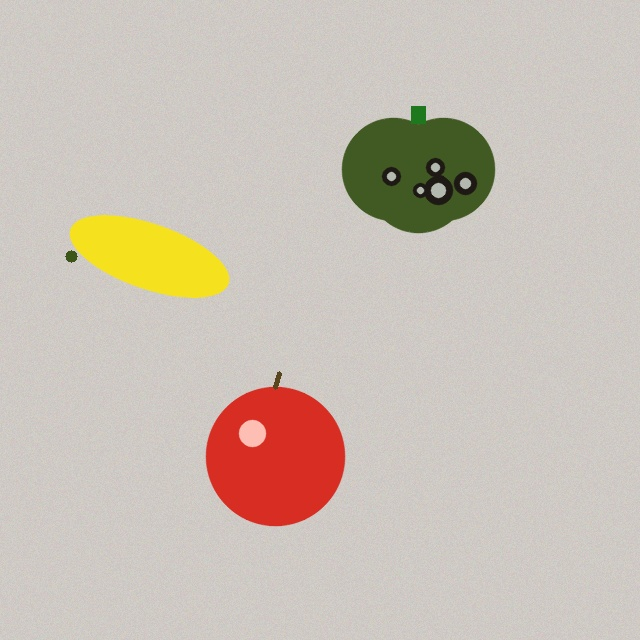Fresh apple: (206, 373, 344, 525)
Fresh banana: (62, 216, 236, 296)
Rotten bell pepper: (342, 106, 494, 232)
